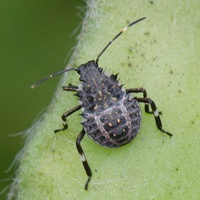insect: (40, 17, 171, 189)
